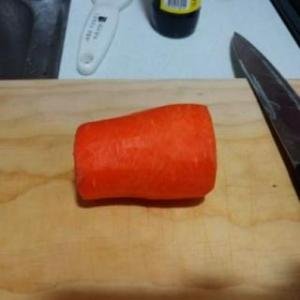carrot: (73, 102, 220, 206)
